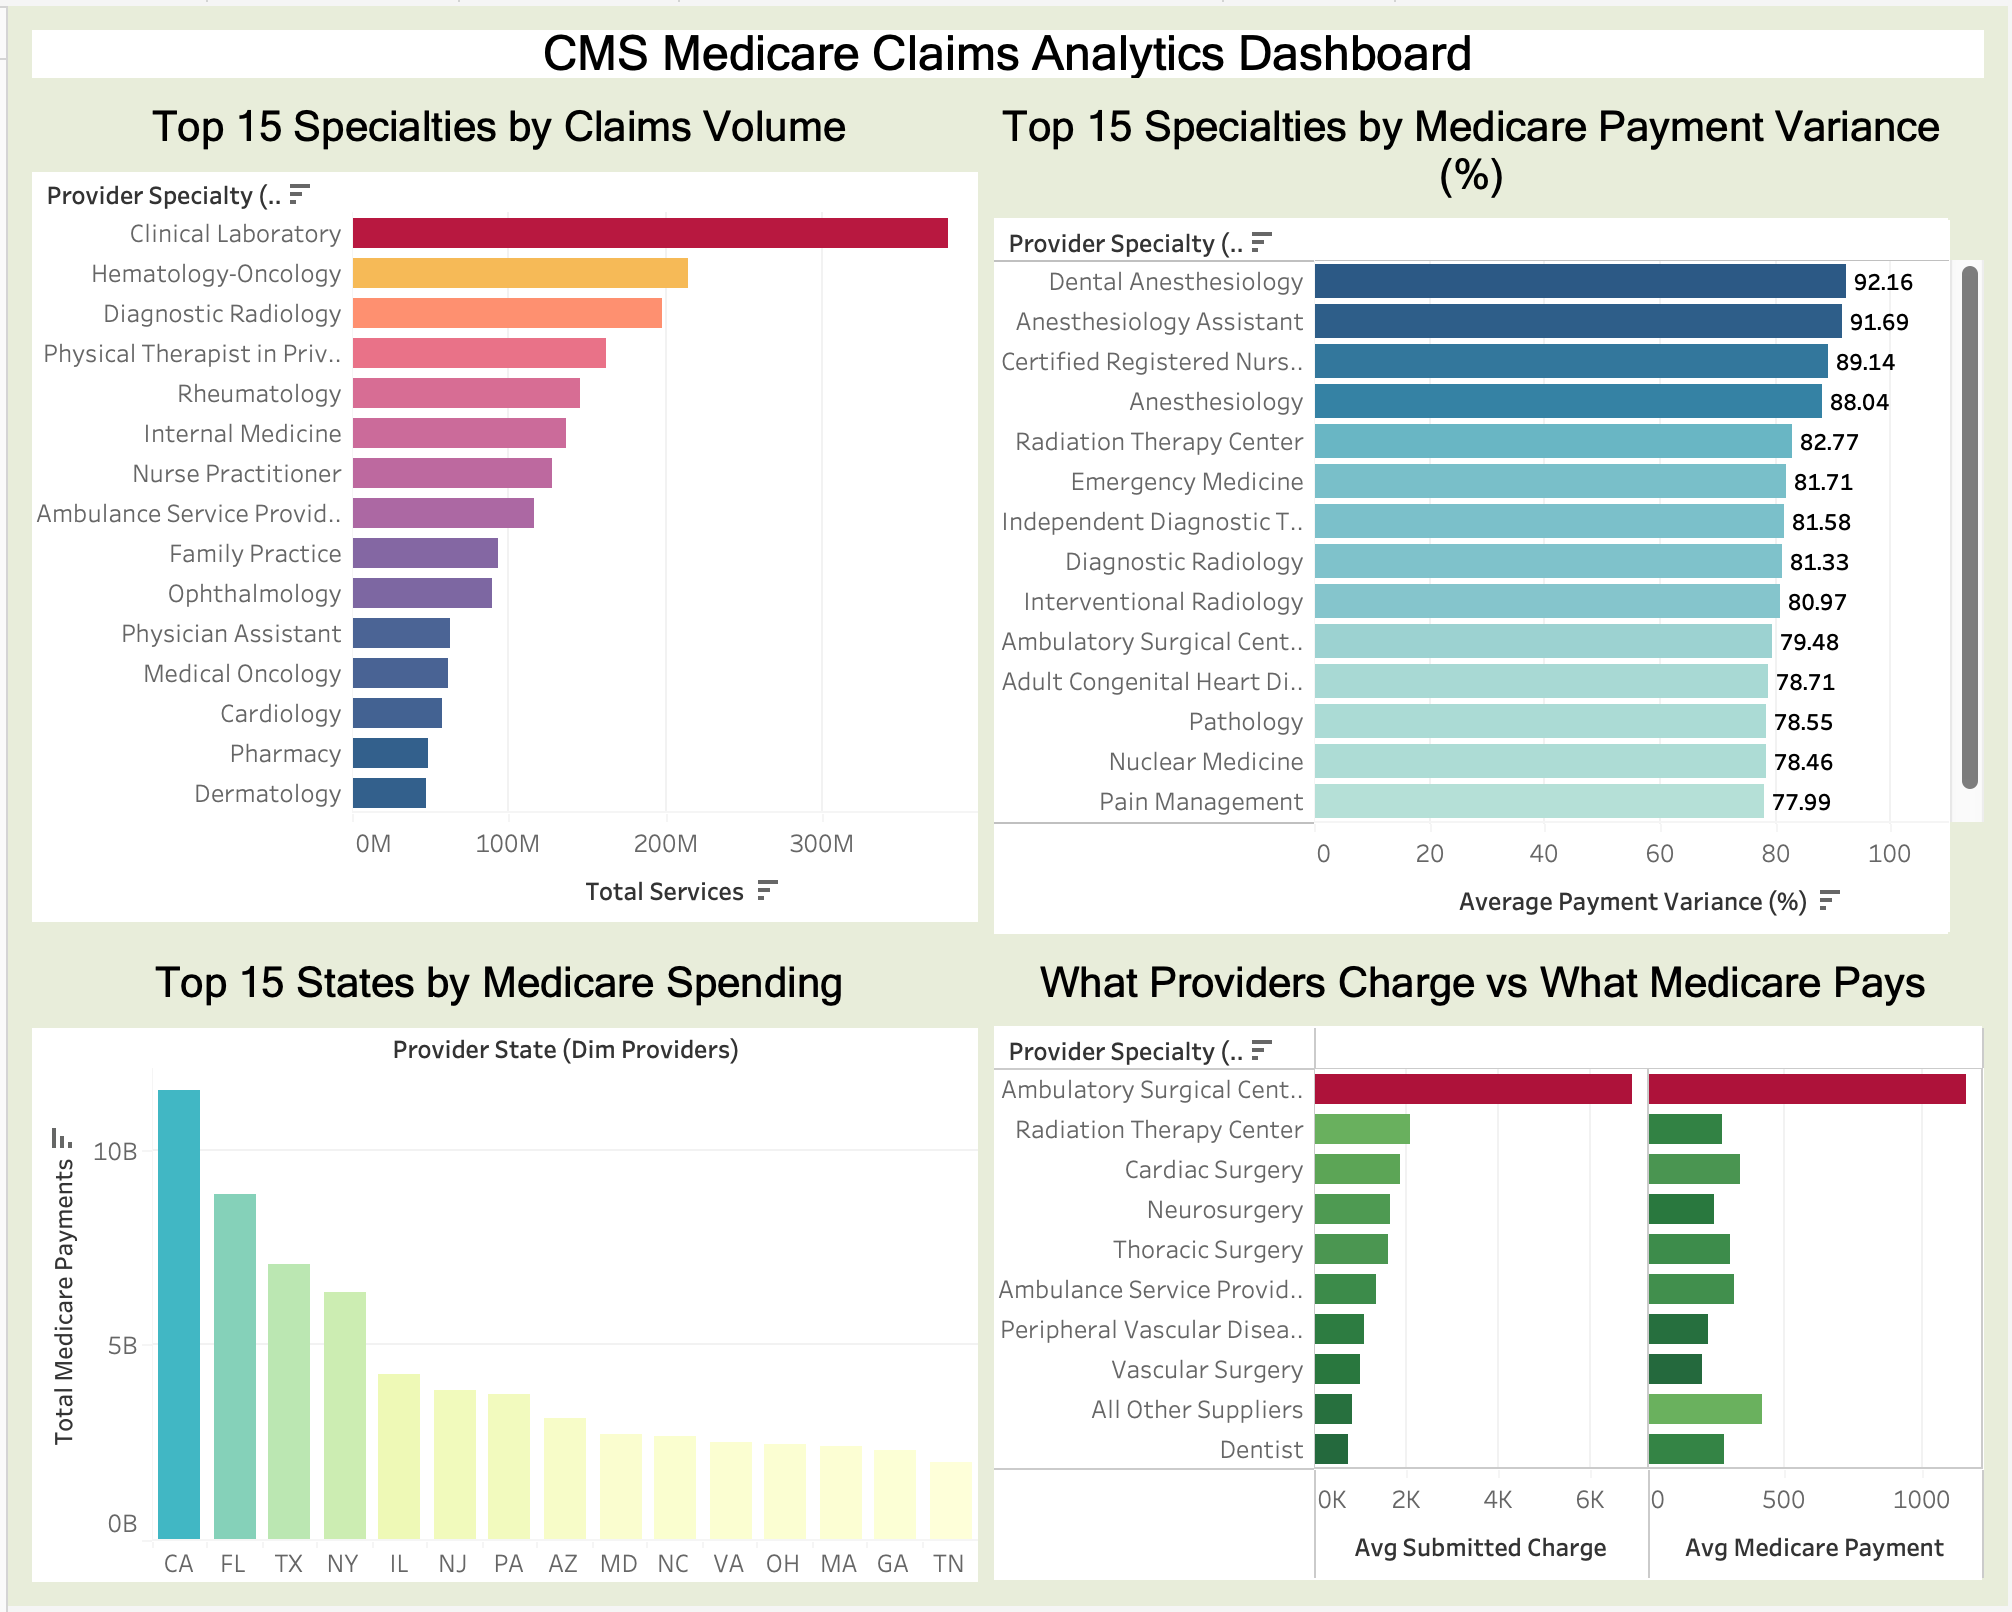

Layout of this report page (visuals, bound fields, positions):
{"tool":"tableau","page":{"name":"CMS Medicare Claims Analytics","canvas":[1000,800],"ordinal":0},"visuals":[{"type":"title","box":[8,8,984,32]},{"type":"worksheet","title":"Top Specialties by Claims Volume","mark":"Automatic","rows":["PROVIDER_SPECIALTY (DIM_PROVIDERS)"],"cols":["TOTAL_SERVICES"],"box":[8,40,481,427.8]},{"type":"worksheet","title":"Payment Variance by Specialty","mark":"Automatic","rows":["PROVIDER_SPECIALTY (DIM_PROVIDERS)"],"cols":["PAYMENT_VARIANCE_PCT"],"box":[489,40,503,428.3]},{"type":"worksheet","title":"  Medicare Spending by State","mark":"Automatic","rows":["TOTAL_MEDICARE_PAYMENTS"],"cols":["PROVIDER_STATE (DIM_PROVIDERS)"],"box":[8,467.8,481,324.2]},{"type":"worksheet","title":"Charges Vs Payment","mark":"Automatic","rows":["PROVIDER_SPECIALTY (DIM_PROVIDERS)"],"cols":["AVG_SUBMITTED_CHARGE","AVG_MEDICARE_PAYMENT"],"box":[489,468.3,503,323.7]}]}

Visuals, with their boxes in screenshot pixels (x1, y1, x2, y2), scaled from the page's 1000x800 canvas onto the 2012x1612 screenshot:
title: bbox=(16, 16, 1996, 81)
"Top Specialties by Claims Volume" worksheet: bbox=(16, 81, 984, 943)
"Payment Variance by Specialty" worksheet: bbox=(984, 81, 1996, 944)
"  Medicare Spending by State" worksheet: bbox=(16, 943, 984, 1596)
"Charges Vs Payment" worksheet: bbox=(984, 944, 1996, 1596)
